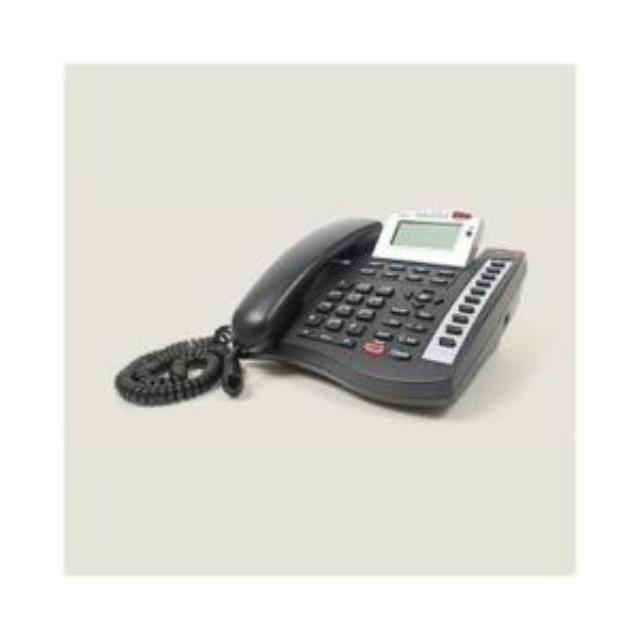Telephone-Set: (114, 208, 532, 428)
